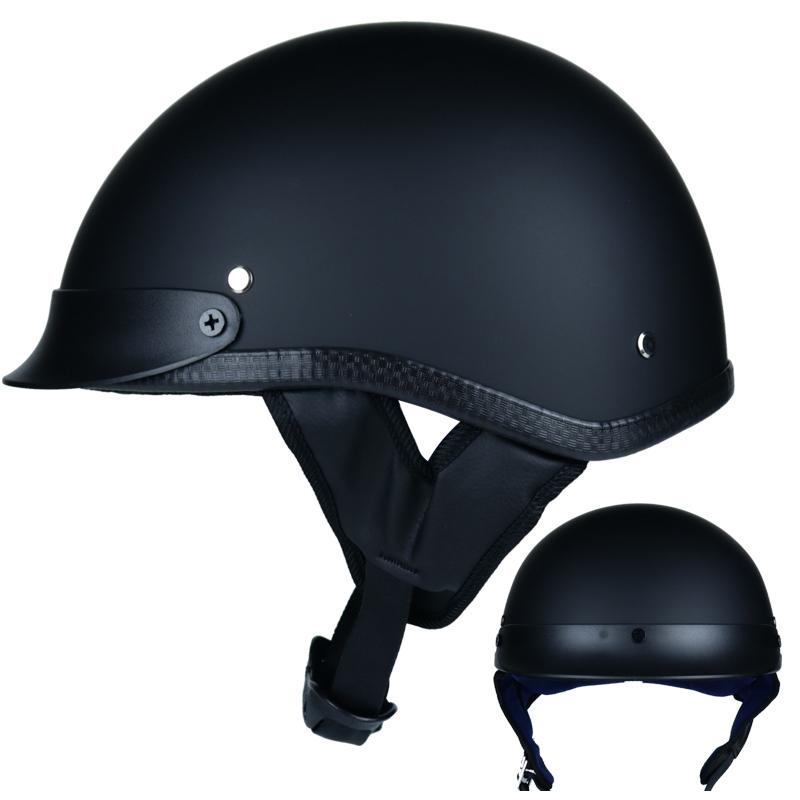with_helmet: (4, 16, 794, 493), (483, 502, 798, 800)
